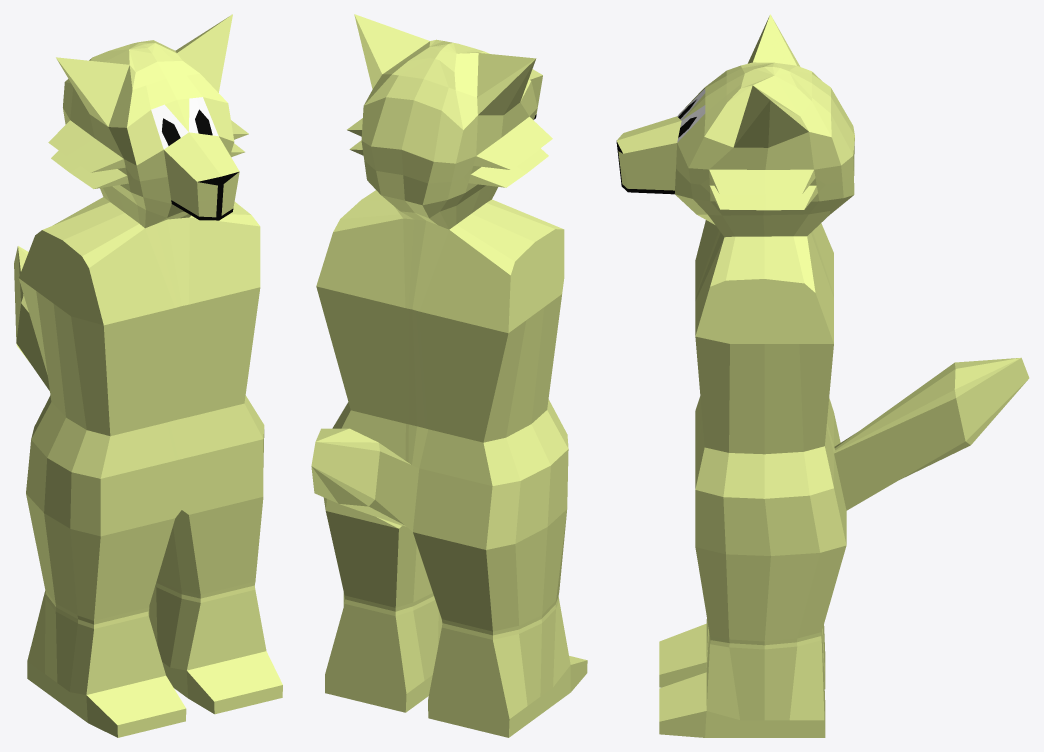
Rendered from player.glb.
3 renders of one model, left to right at view 1: azimuth 30°, elevation 25°; view 2: azimuth 150°, elevation 25°; view 3: azimuth 270°, elevation 25°, orthographic. The views are drawn at different scales.
Parts seen in each view (by area): view 1: Doggo; view 2: Doggo; view 3: Doggo.
Boxes of the visible parts, box(x1,y1,x2,y2) form: Doggo: box(14, 14, 282, 737); Doggo: box(311, 14, 587, 737); Doggo: box(616, 14, 1029, 737).
Size of the model in its own units: 0.6299 by 1.93 by 1.13.
